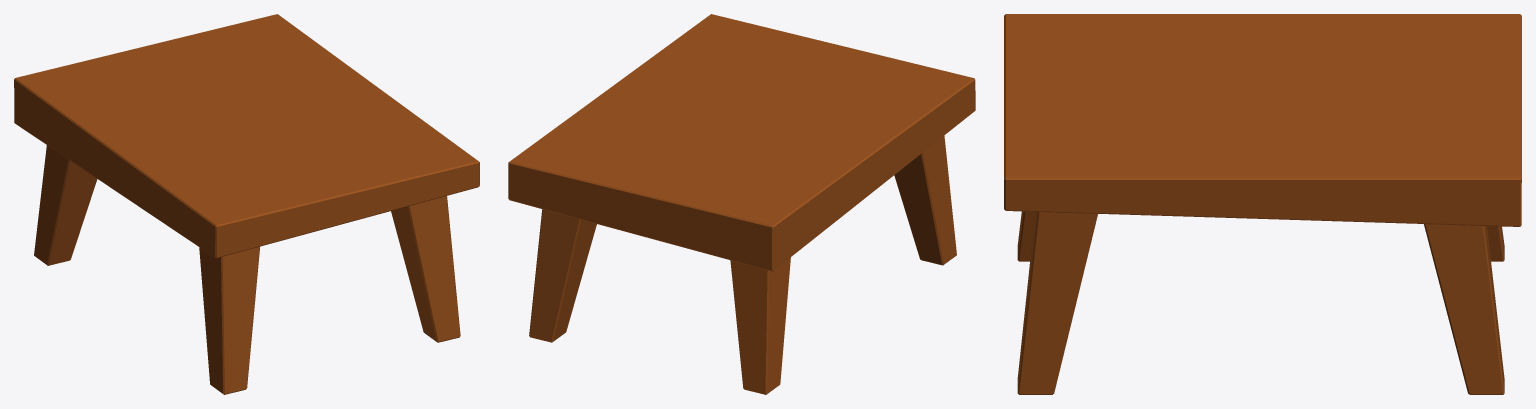
File: Coffee_table2.glb
3 views of the same model, side by side, from view 1: azimuth 30°, elevation 25°; view 2: azimuth 150°, elevation 25°; view 3: azimuth 270°, elevation 25° (orthographic). The views are drawn at different scales.
Parts seen in each view (by area): view 1: Coffee_table; view 2: Coffee_table; view 3: Coffee_table.
Part boxes in pixels (left/top/right/bottom): Coffee_table: left=14, top=14, right=479, bottom=394; Coffee_table: left=508, top=14, right=975, bottom=394; Coffee_table: left=1004, top=14, right=1521, bottom=394.
Size of the model in its own units: 0.8109 by 0.5173 by 1.07.
